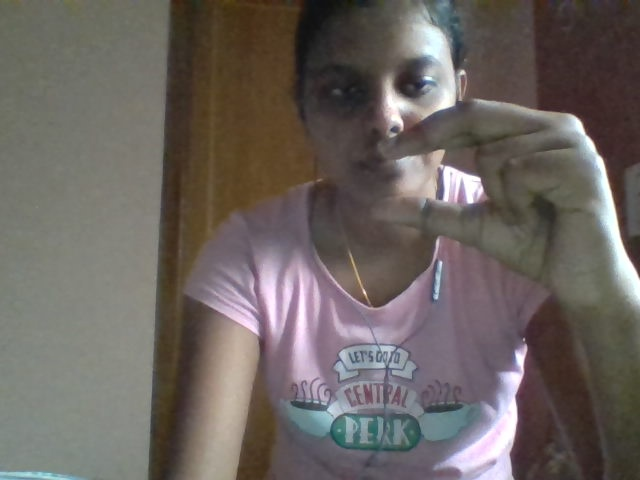No: (333, 75, 635, 297)
